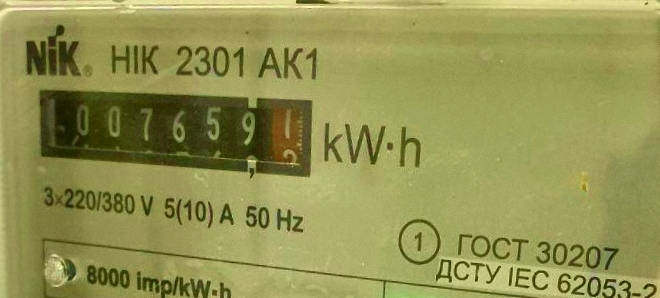0: (102, 100, 125, 141), (71, 99, 94, 139)
1: (275, 104, 297, 142)
5: (200, 102, 225, 143)
6: (166, 103, 191, 146)
7: (133, 102, 158, 143)
9: (236, 107, 260, 148)
screen: (24, 73, 322, 187)
